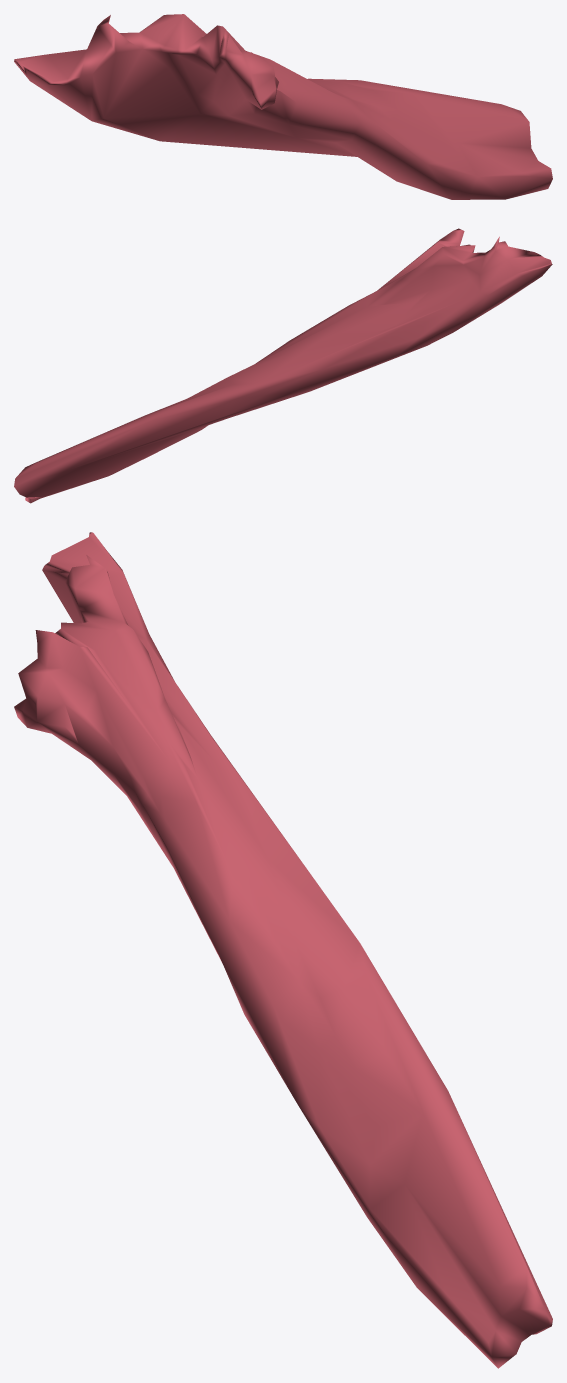
The picture shows the model from 3 angles, top to bottom: view 1: azimuth 30°, elevation 25°; view 2: azimuth 150°, elevation 25°; view 3: azimuth 270°, elevation 25°; orthographic projection. The views are drawn at different scales.
Visible parts, largest first — view 1: 左侧拇对掌肌; view 2: 左侧拇对掌肌; view 3: 左侧拇对掌肌.
Part boxes in pixels (x1,y1,x2,y2): 左侧拇对掌肌: [14, 14, 552, 199]; 左侧拇对掌肌: [14, 228, 552, 503]; 左侧拇对掌肌: [14, 532, 552, 1368].
Size of the model in its own units: 0.0682 by 0.0422 by 0.0419.
